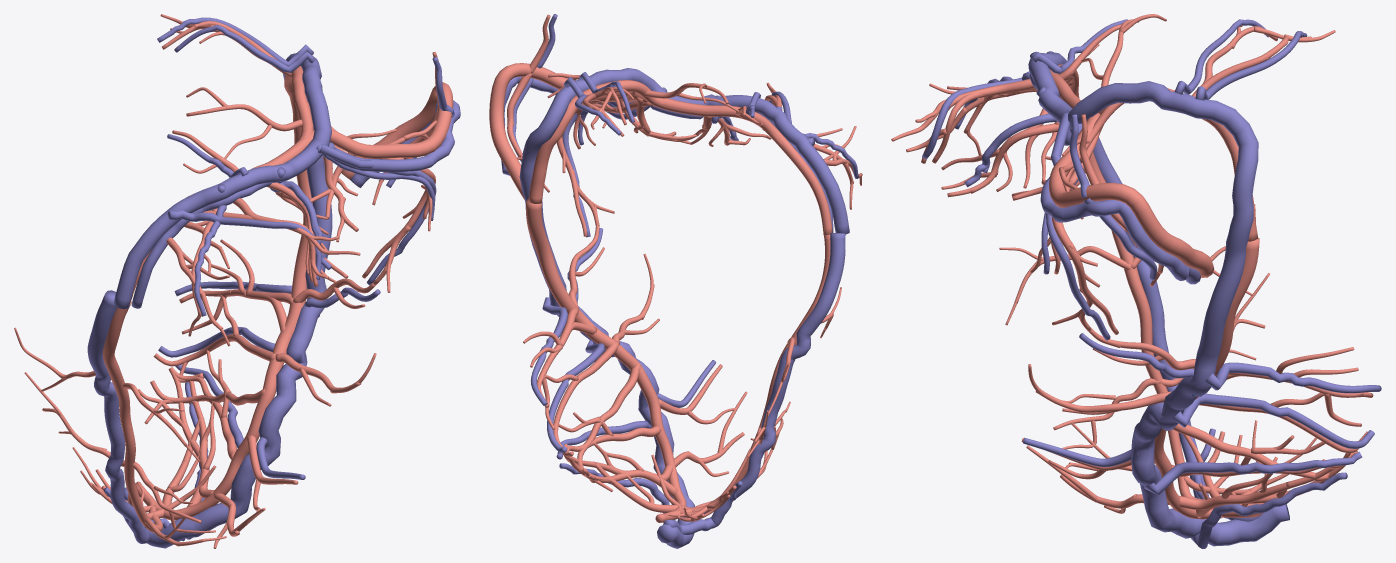
File: vessels_68.glb
3 views of the same model, side by side, from view 1: azimuth 30°, elevation 25°; view 2: azimuth 150°, elevation 25°; view 3: azimuth 270°, elevation 25° (orthographic). The views are drawn at different scales.
Parts seen in each view (by area): view 1: Renderer Node; view 2: Renderer Node; view 3: Renderer Node.
Part boxes in pixels (<box>): Renderer Node: <box>14,14,460,548</box>; Renderer Node: <box>489,14,862,548</box>; Renderer Node: <box>891,14,1381,548</box>.
Bounding box in the file's own units: 93.49 × 117 × 92.46.
